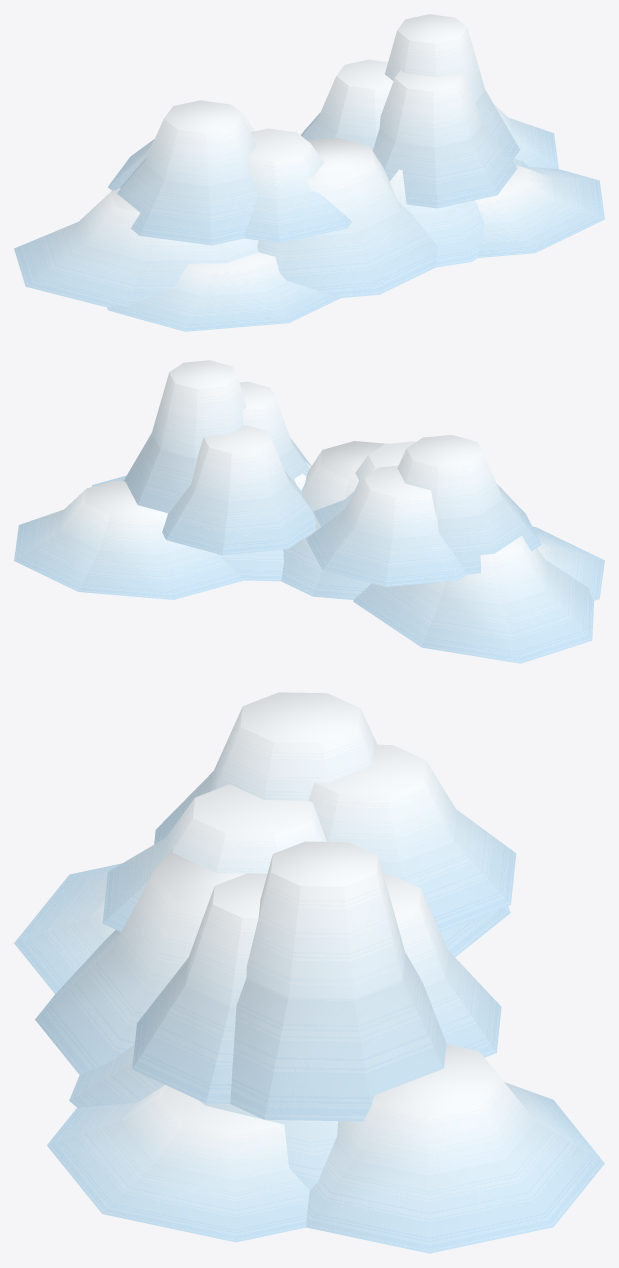
Rendered from cloud-b.glb.
The picture shows the model from 3 angles, top to bottom: view 1: azimuth 30°, elevation 25°; view 2: azimuth 150°, elevation 25°; view 3: azimuth 270°, elevation 25°; orthographic projection. The views are drawn at different scales.
Parts seen in each view (by area): view 1: cloud-b; view 2: cloud-b; view 3: cloud-b.
Part boxes in pixels (x1,y1,x2,y2): cloud-b: (14,14,604,331); cloud-b: (14,360,604,663); cloud-b: (14,692,604,1253).
Bounding box in the file's own units: 14 × 4 × 8.
Materials: 1 (1 with a texture image).
